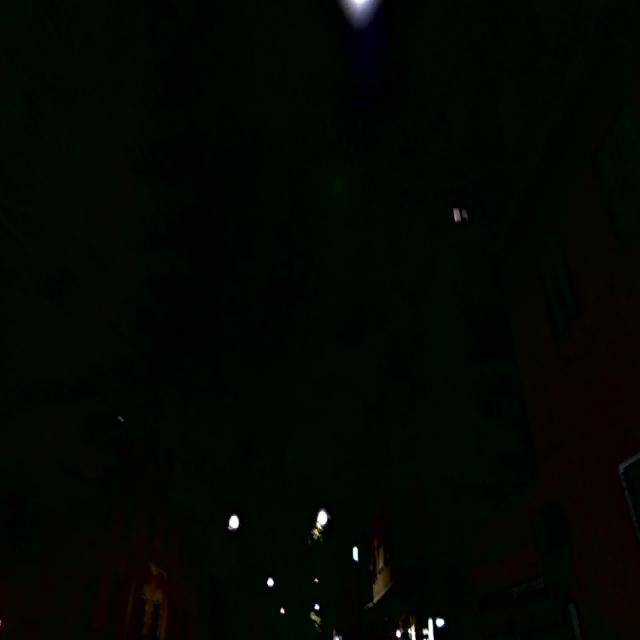lampione: (328, 0, 387, 20), (312, 500, 333, 534), (346, 535, 364, 571), (264, 564, 278, 599), (310, 595, 324, 618), (228, 511, 240, 537), (275, 600, 289, 622), (394, 617, 404, 640)
